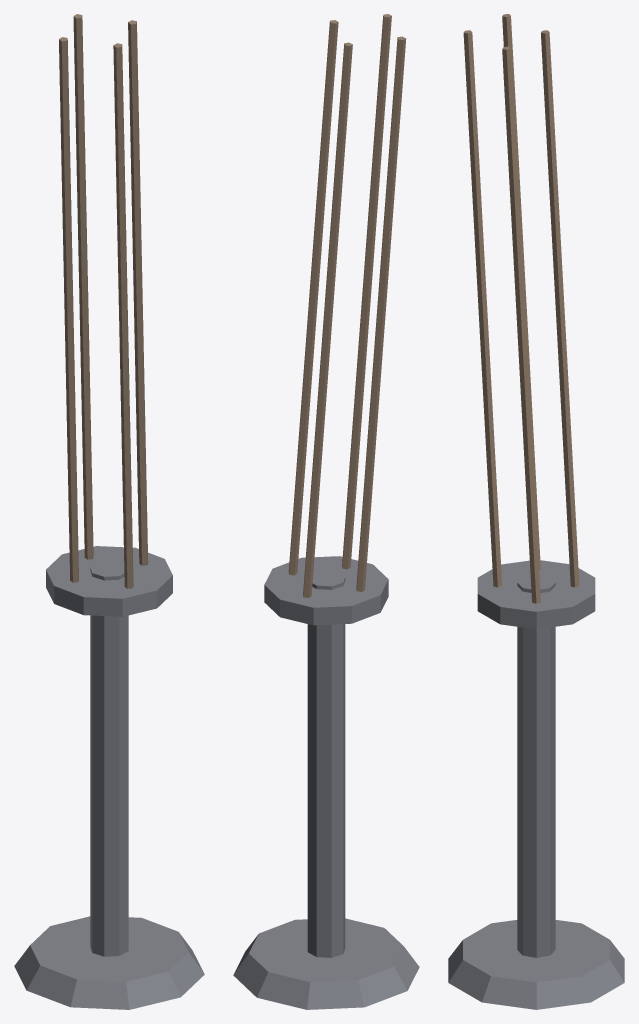
The model's file is lunge-whip-stand.glb.
The picture shows the model from 3 angles, left to right: view 1: azimuth 30°, elevation 25°; view 2: azimuth 150°, elevation 25°; view 3: azimuth 270°, elevation 25°; orthographic projection. The views are drawn at different scales.
Visible parts, largest first — view 1: lunge-whip-stand; view 2: lunge-whip-stand; view 3: lunge-whip-stand.
Boxes of the visible parts, x1=… form: lunge-whip-stand: x1=14, y1=14, x2=204, y2=1009; lunge-whip-stand: x1=233, y1=14, x2=419, y2=1009; lunge-whip-stand: x1=448, y1=14, x2=624, y2=1009.
Size of the model in its own units: 0.48 by 2.65 by 0.4565.
